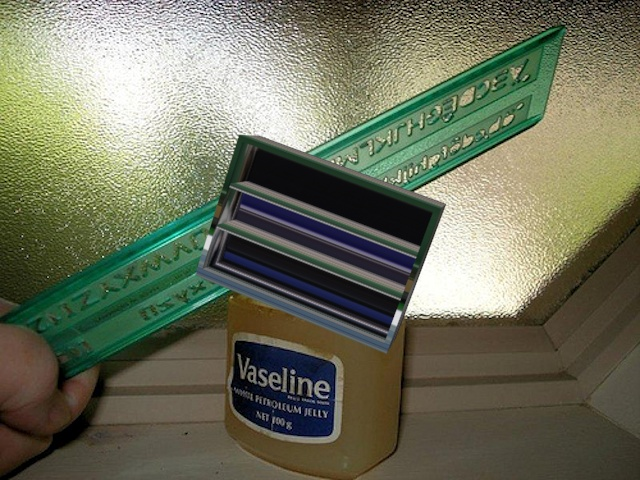bookcase: (192, 128, 449, 360)
